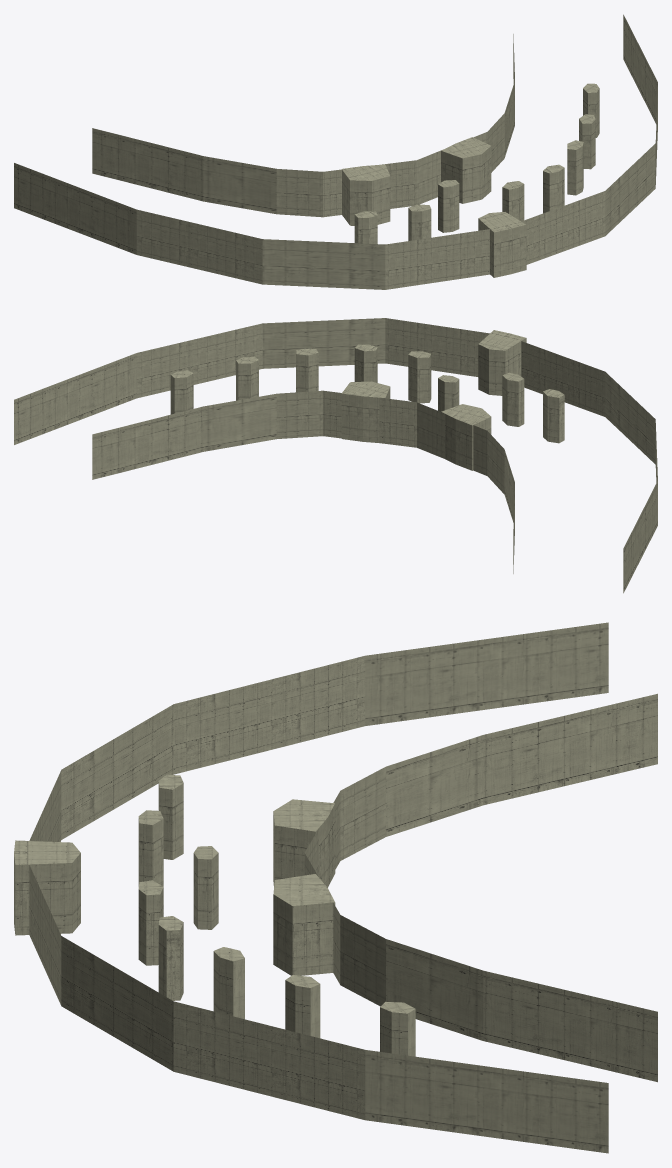
Rendered from SM_Republic_06_00.fbx.
The picture shows the model from 3 angles, top to bottom: view 1: azimuth 30°, elevation 25°; view 2: azimuth 150°, elevation 25°; view 3: azimuth 270°, elevation 25°; orthographic projection. The views are drawn at different scales.
Parts seen in each view (by area): view 1: SM_Republic_06_00; view 2: SM_Republic_06_00; view 3: SM_Republic_06_00.
Boxes of the visible parts, left/top/right/bottom form: SM_Republic_06_00: left=14, top=14, right=657, bottom=289; SM_Republic_06_00: left=14, top=318, right=657, bottom=593; SM_Republic_06_00: left=14, top=622, right=657, bottom=1153.
Size of the model in its own units: 22492 by 1605 by 13289.
